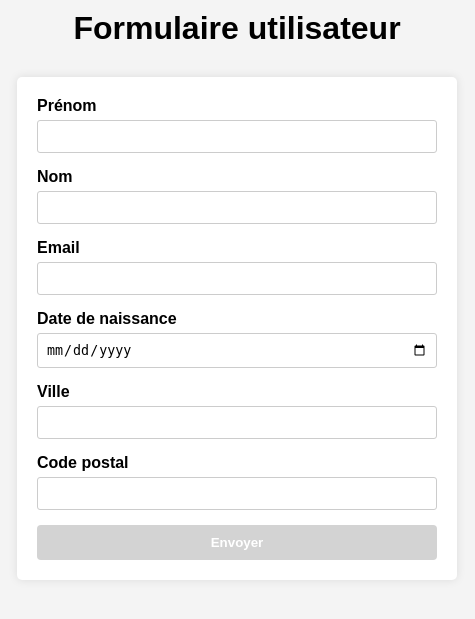
Test: Integration test - User form › should display identity error under firstname field
Type "123" into the field labelled "Prénom".
click(237, 136); type("123")  # box [37,120,437,153]
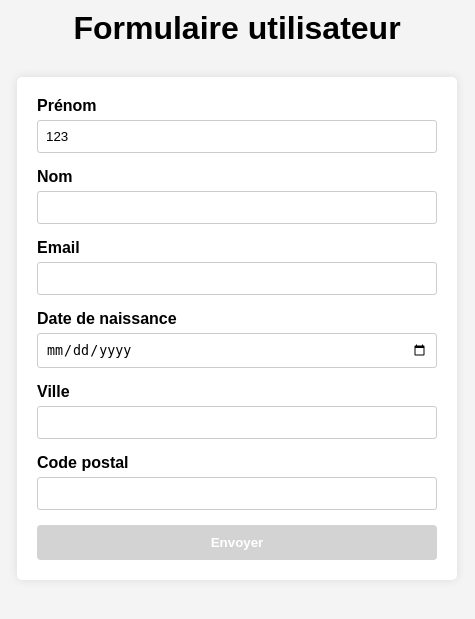
Leave the field labelled "Prénom", box [37,120,437,153]
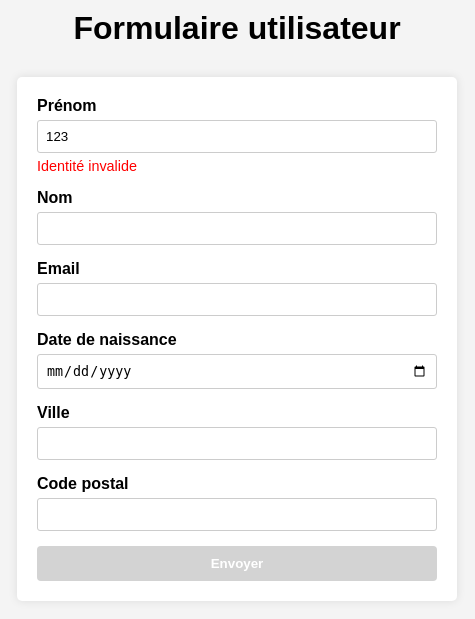
Check: the text "Identité invalide" is shown, box [37,158,137,174]
